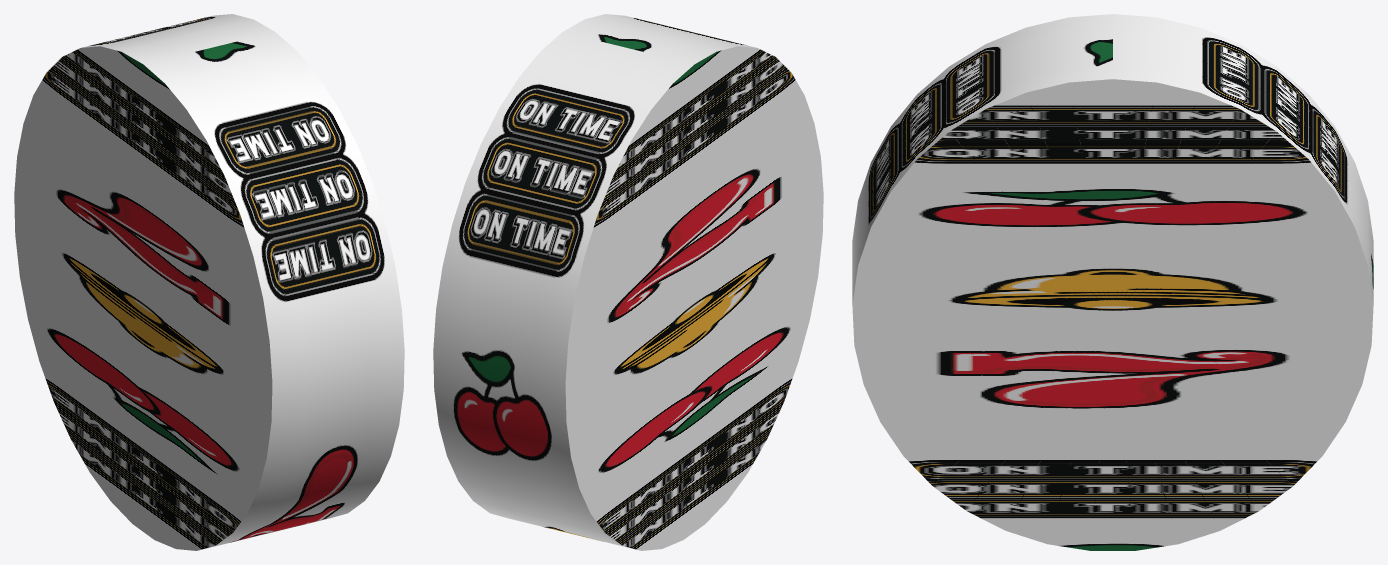
3 views of the same model, side by side, from view 1: azimuth 30°, elevation 25°; view 2: azimuth 150°, elevation 25°; view 3: azimuth 270°, elevation 25° (orthographic).
Visible parts, largest first — view 1: 돌3; view 2: 돌3; view 3: 돌3.
Part boxes in pixels (box(x1,y1,x2,y2)): 돌3: box(14, 14, 404, 550); 돌3: box(433, 14, 823, 550); 돌3: box(852, 14, 1373, 550).
Size of the model in its own units: 0.3661 by 1.24 by 1.24.
1 material, 1 textured.
